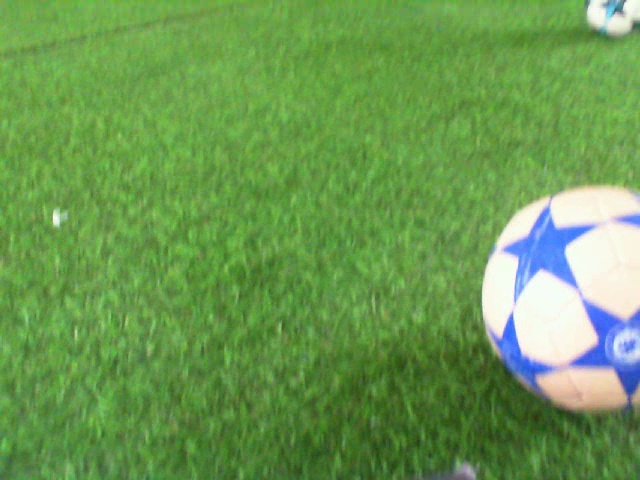ball: (480, 182, 640, 419)
